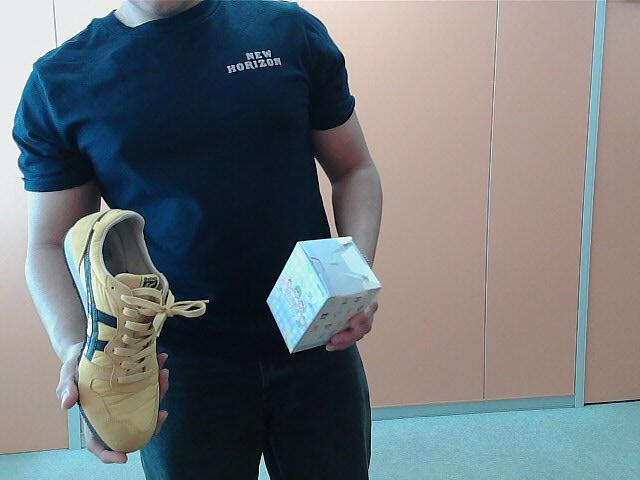Blind_box: (268, 230, 378, 361)
Shoes: (53, 205, 177, 468)
